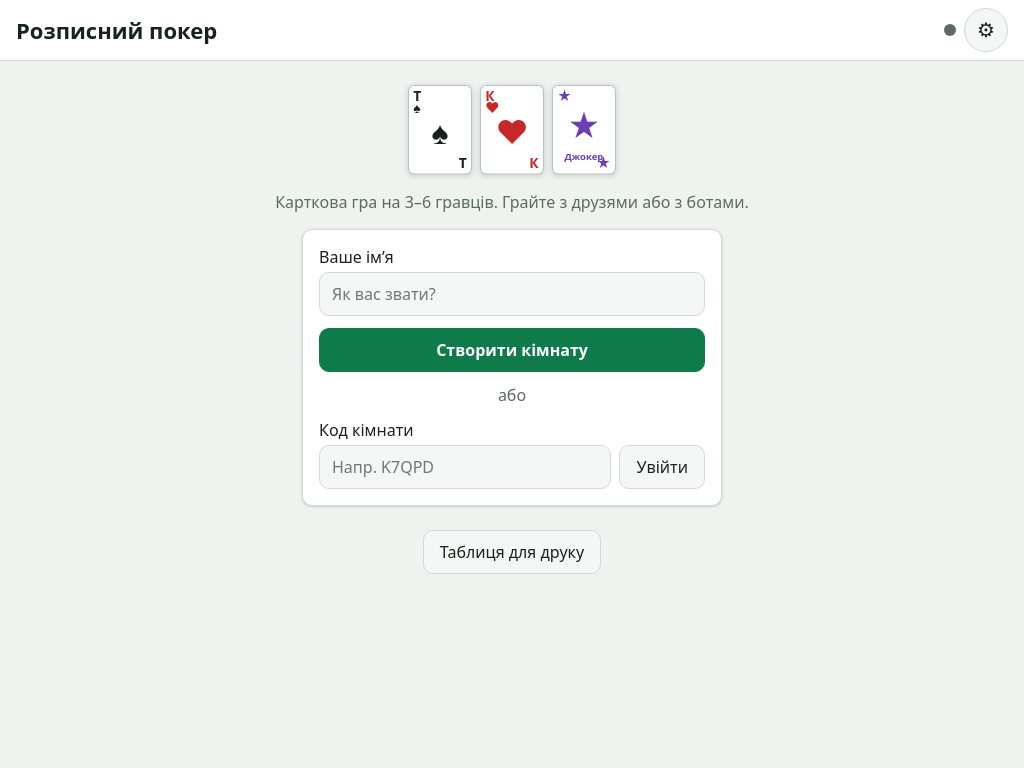
Test: меню налаштувань у шапці › перемикач у меню не закриває його; Escape закриває й повертає фокус на ⚙
Click the button named "Налаштування": (986, 30) [964,8,1008,52]
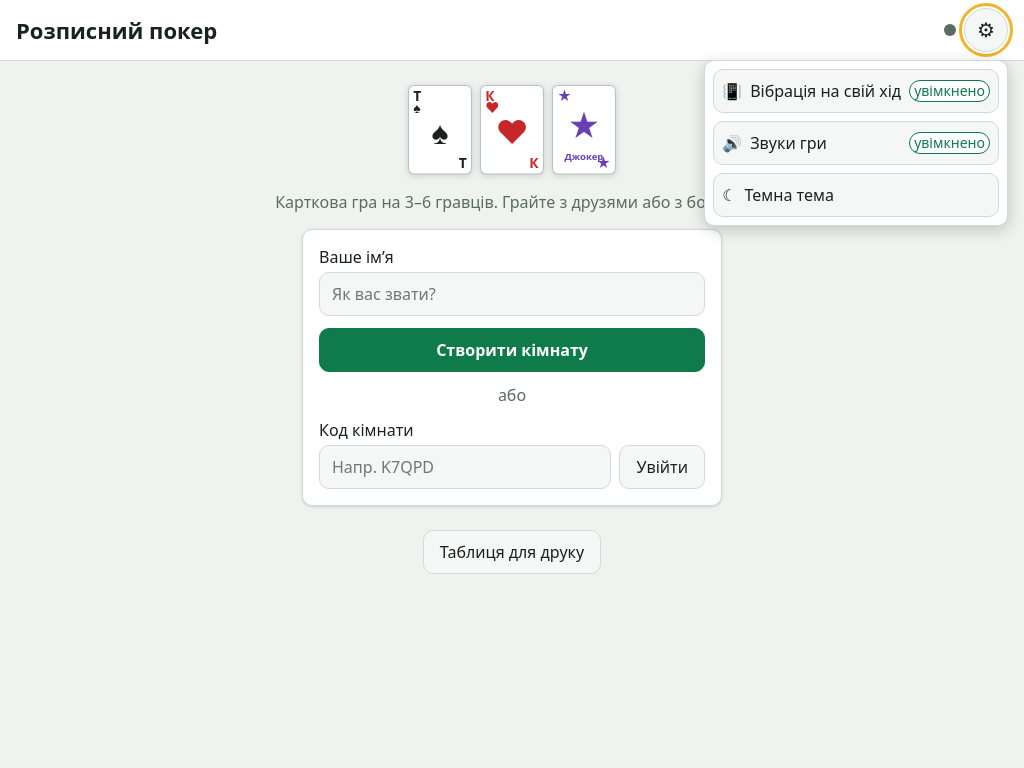
Click the button "📳 Вібрація на свій хід увімкнено": (856, 91) [713,69,999,113]
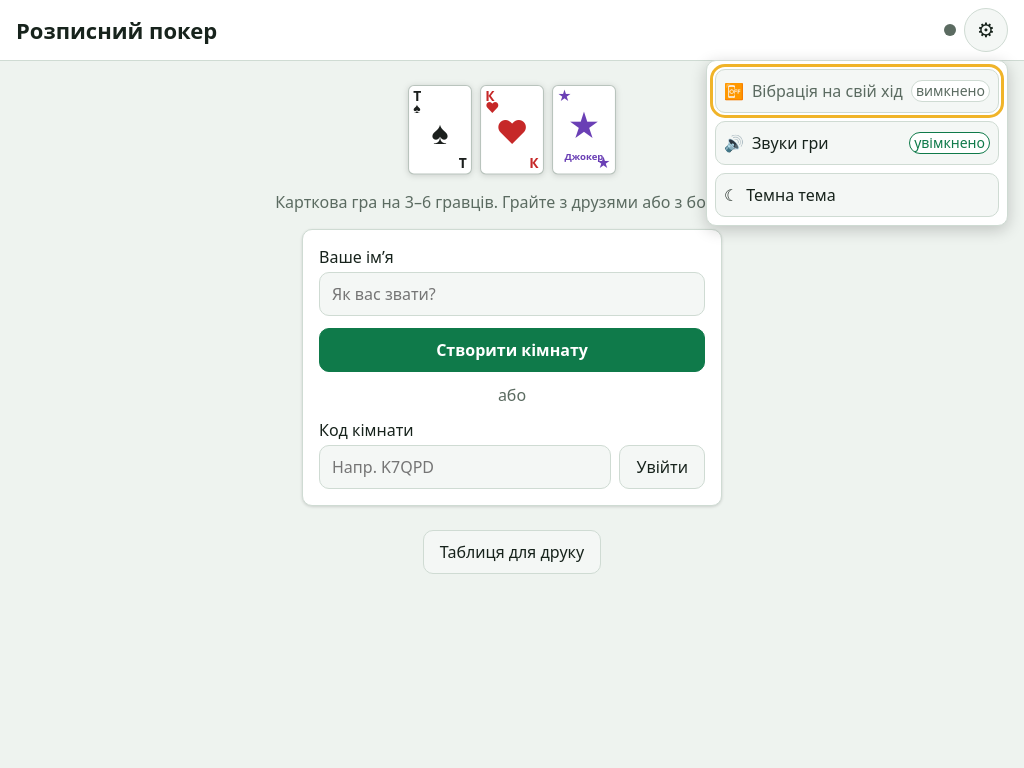
Expected: the button named "Налаштування" is expanded, [964,8,1008,52]
Press Escape
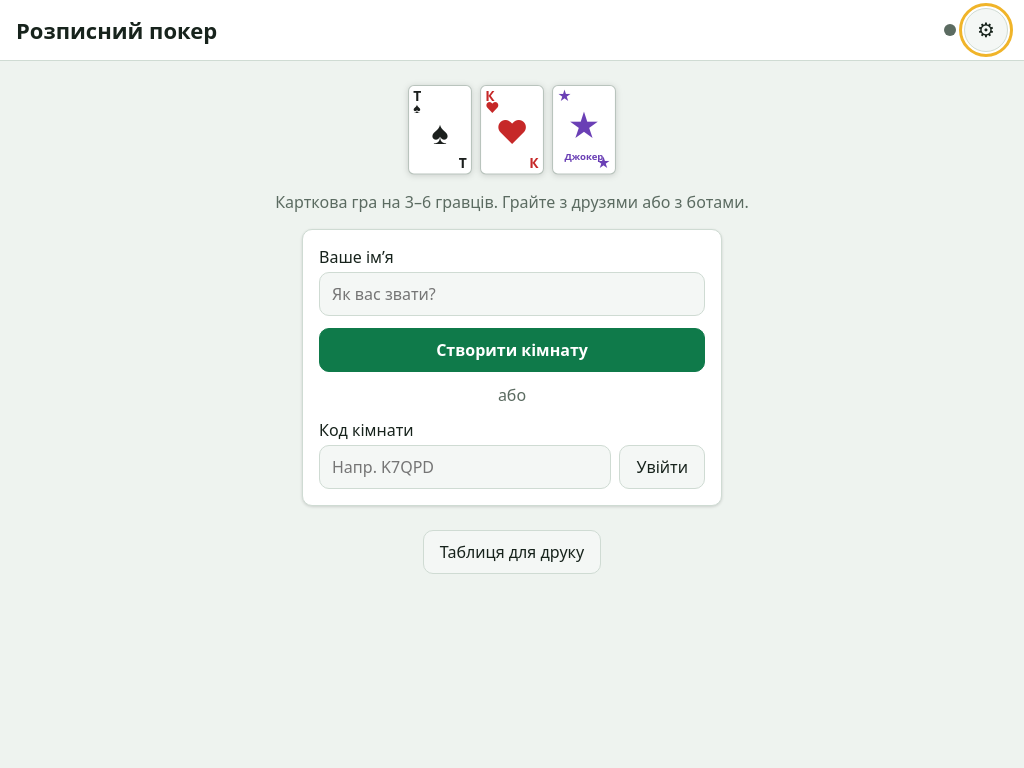
Expected: the button named "Налаштування" is collapsed, [964,8,1008,52]
